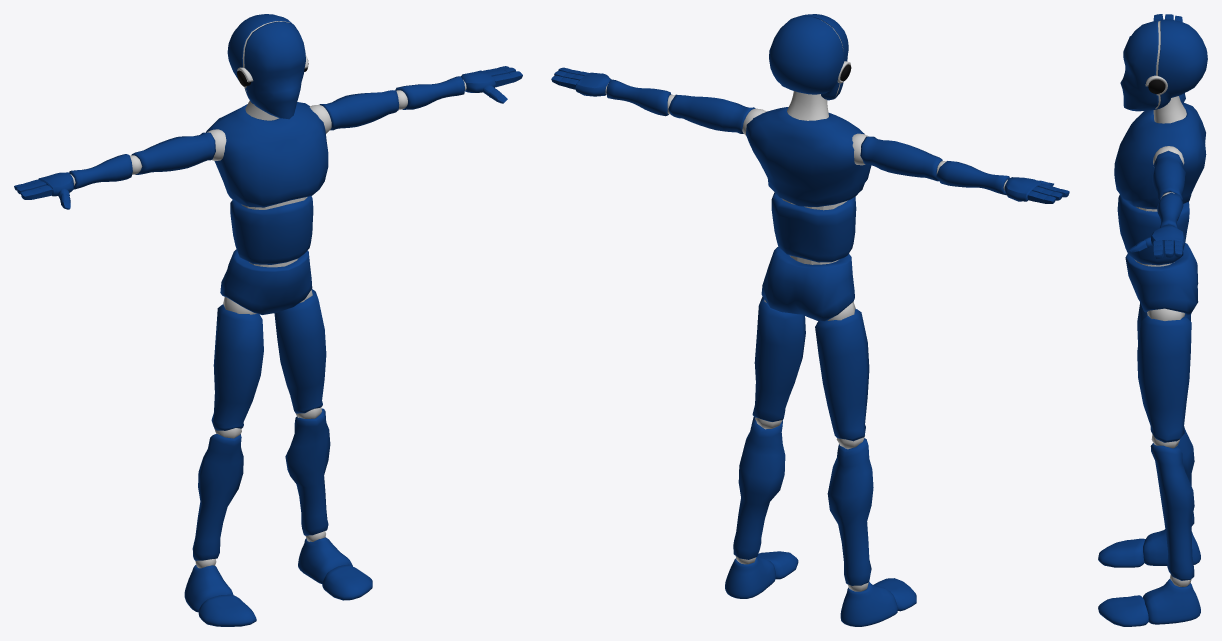
Rendered from Mannequin.obj.
The picture shows the model from 3 angles, left to right: view 1: azimuth 30°, elevation 25°; view 2: azimuth 150°, elevation 25°; view 3: azimuth 270°, elevation 25°; orthographic projection. The views are drawn at different scales.
Size of the model in its own units: 1.64 by 1.8 by 0.3162.
